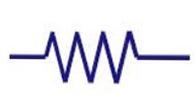resistor: (41, 24, 143, 83)
